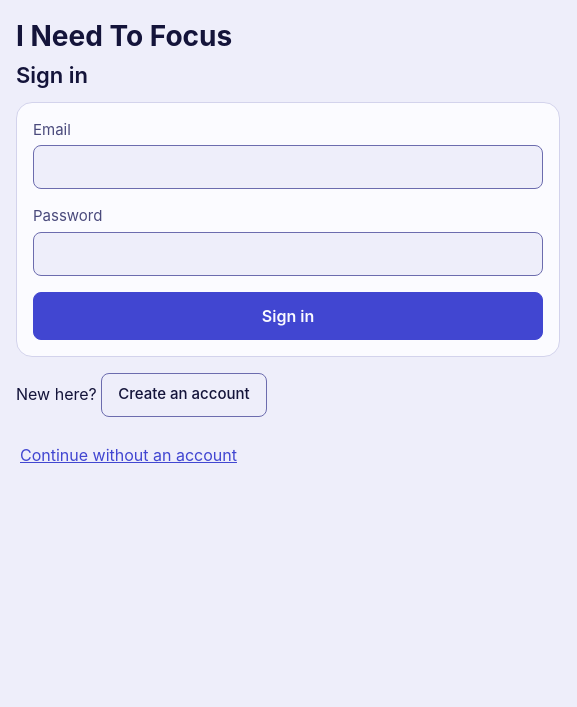
Test case: /signup, /login and Continue without an account › Continue from a form opened directly goes to New session
What coordinates should you click on to do the following:
click the link "Continue without an account"
I would click on:
 (128, 454)
Its box is [20, 444, 237, 464].
(page scrolled)
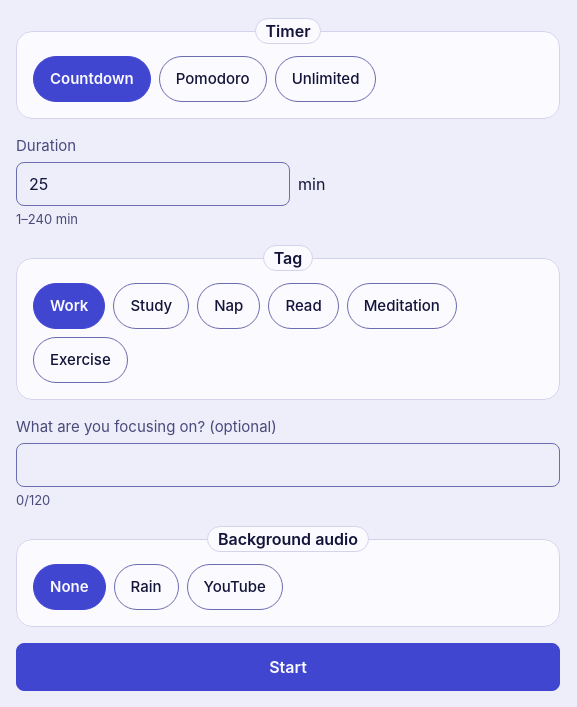
Expected: the button "Start" is shown, [16, 643, 560, 691]
